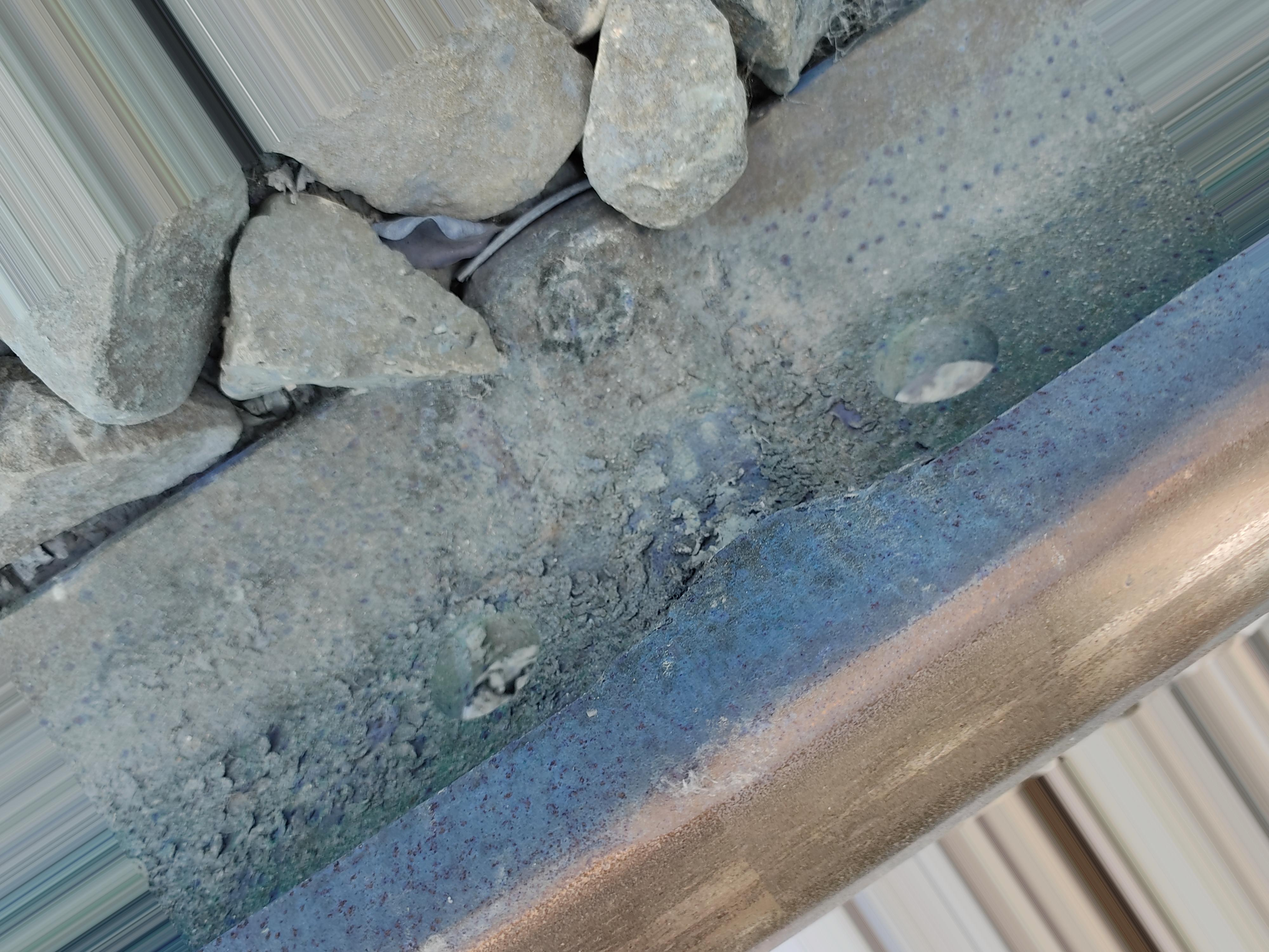tracks_fault: (450, 219, 890, 676)
